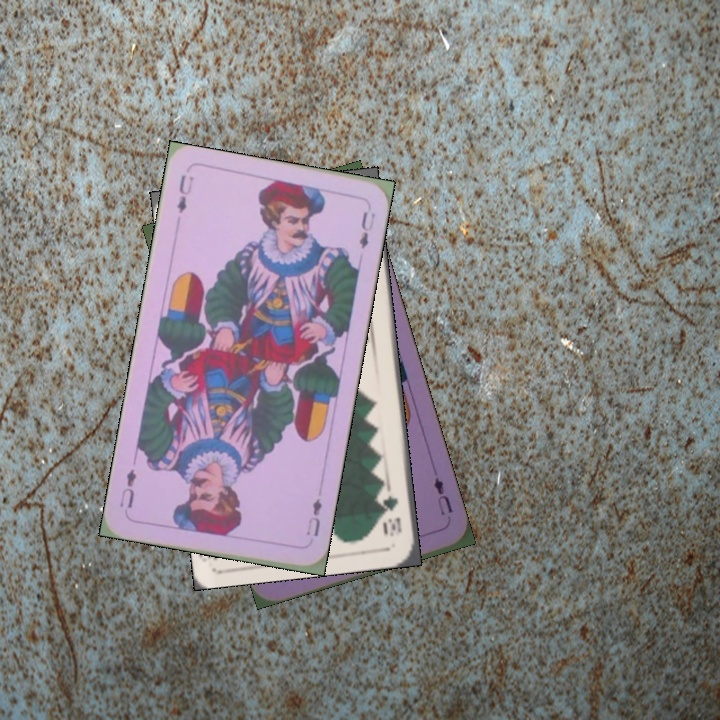EU: (429, 473, 455, 518), (302, 494, 325, 540), (173, 171, 196, 216)
G10: (378, 491, 404, 539)
